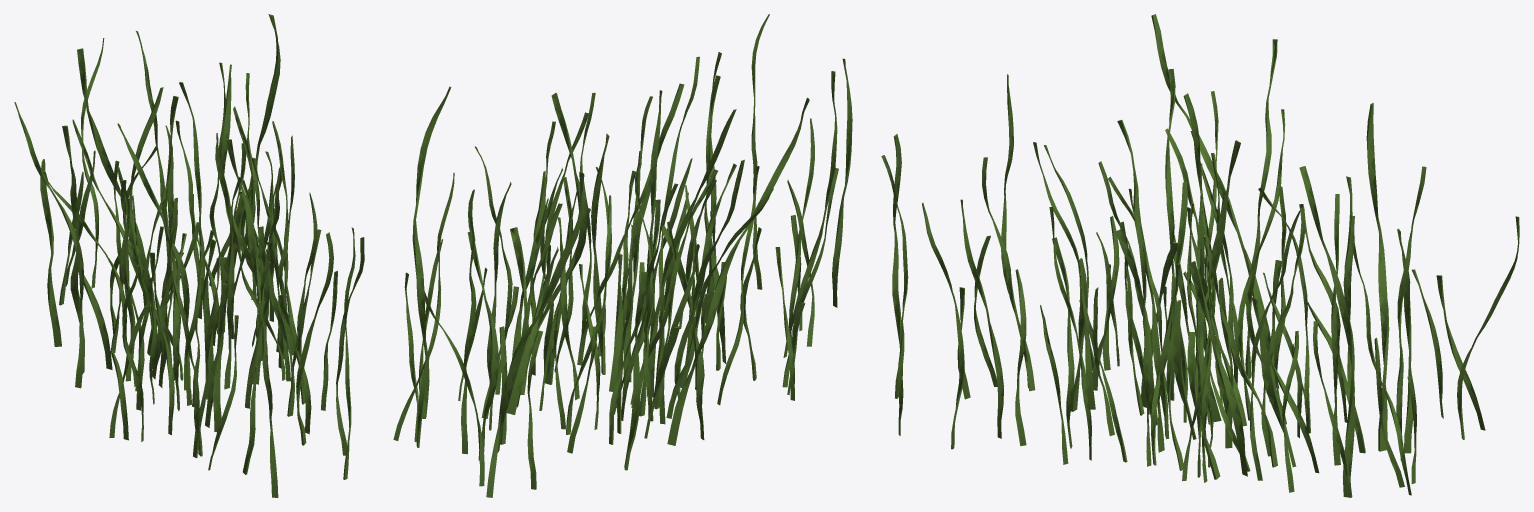
The model's file is plant_swamp_kelp_thick_A_medium.fbx.
3 renders of one model, left to right at view 1: azimuth 30°, elevation 25°; view 2: azimuth 150°, elevation 25°; view 3: azimuth 270°, elevation 25°, orthographic. The views are drawn at different scales.
Visible parts, largest first — view 1: plant_swamp_kelp_thick_A_medium; view 2: plant_swamp_kelp_thick_A_medium; view 3: plant_swamp_kelp_thick_A_medium.
Part boxes in pixels (box(x1,y1,x2,y2)): plant_swamp_kelp_thick_A_medium: box(14, 14, 364, 497); plant_swamp_kelp_thick_A_medium: box(393, 14, 852, 497); plant_swamp_kelp_thick_A_medium: box(881, 14, 1519, 497).
Size of the model in its own units: 361 by 359 by 619.
